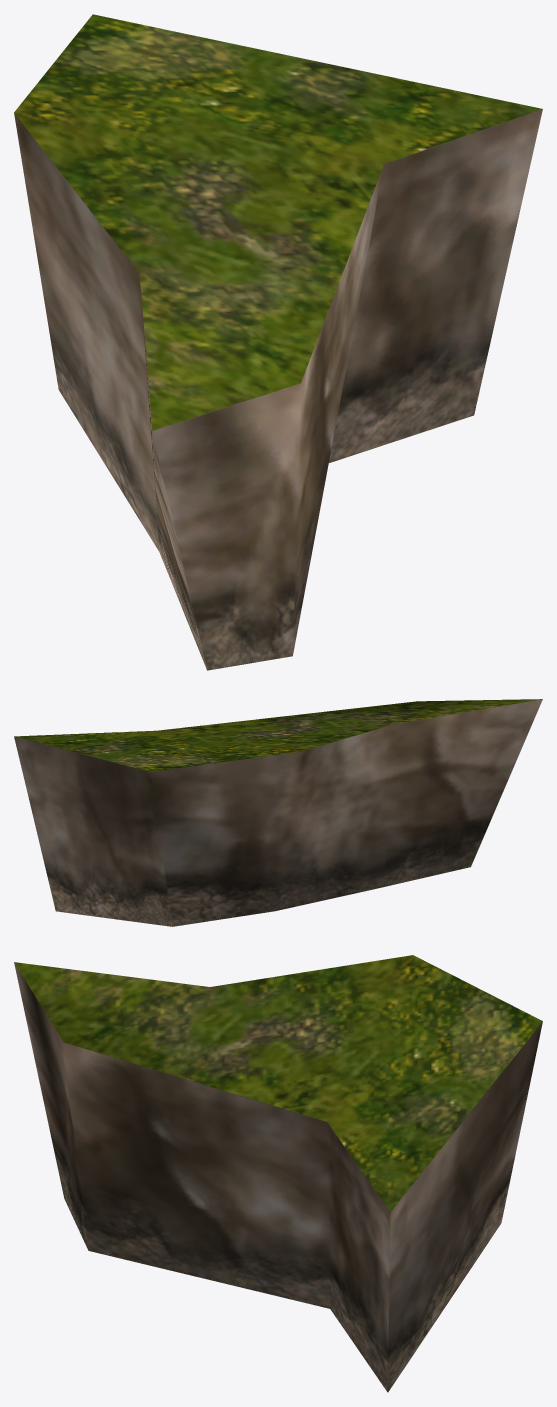
The model's file is ANIMATEDINSTANCES_OH_ROCKFALL_201__AI.obj.
3 renders of one model, top to bottom at view 1: azimuth 30°, elevation 25°; view 2: azimuth 150°, elevation 25°; view 3: azimuth 270°, elevation 25°, orthographic. The views are drawn at different scales.
Visible parts, largest first — view 1: ockfall_201__AI; view 2: ockfall_201__AI; view 3: ockfall_201__AI.
Boxes of the visible parts, x1,y1,x2,y2 form: ockfall_201__AI: [14, 14, 542, 670]; ockfall_201__AI: [14, 699, 542, 926]; ockfall_201__AI: [14, 955, 542, 1392].
Size of the model in its own units: 124 by 71.88 by 121.
